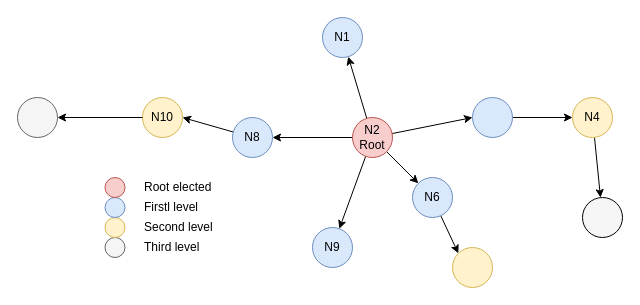
Some shapes in this 640 by 305 pixel diagram are drawn without their labels. Here are the shapes that lost their labels. From the top down, the box of each, then its label:
(16, 96, 58, 138): N11
(472, 96, 512, 138): N3
(582, 196, 622, 238): N5
(452, 246, 492, 288): N7
